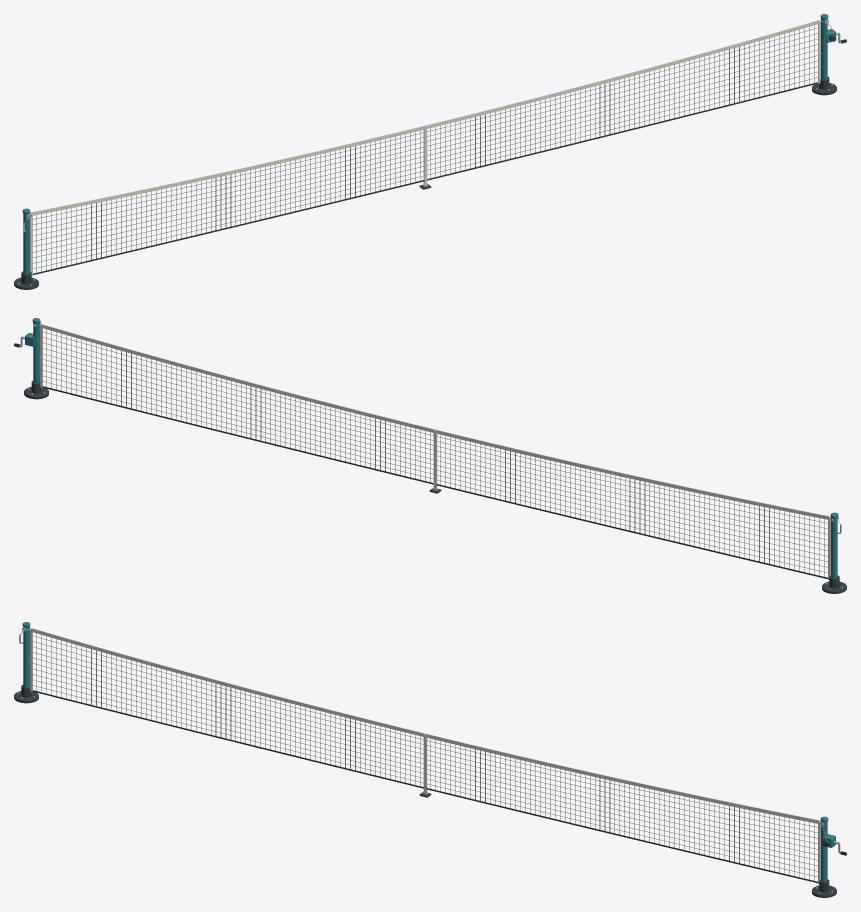
File: city-tennis-net-set.glb
3 renders of one model, top to bottom at view 1: azimuth 30°, elevation 25°; view 2: azimuth 150°, elevation 25°; view 3: azimuth 330°, elevation 25°, orthographic.
Parts seen in each view (by area): view 1: Assembly | Dark olive net cord, Assembly | Warm ivory woven tape appearance, Assembly | Muted petrol powder coating, Assembly | Dark graphite coated frame; view 2: Assembly | Dark olive net cord, Assembly | Warm ivory woven tape appearance, Assembly | Muted petrol powder coating, Assembly | Dark graphite coated frame; view 3: Assembly | Dark olive net cord, Assembly | Warm ivory woven tape appearance, Assembly | Muted petrol powder coating, Assembly | Dark graphite coated frame.
Boxes of the visible parts, x1=… form: Assembly | Dark olive net cord: x1=33, y1=25, x2=818, y2=274; Assembly | Warm ivory woven tape appearance: x1=30, y1=20, x2=820, y2=275; Assembly | Muted petrol powder coating: x1=22, y1=14, x2=835, y2=273; Assembly | Dark graphite coated frame: x1=14, y1=34, x2=836, y2=289; Assembly | Dark olive net cord: x1=42, y1=329, x2=827, y2=578; Assembly | Warm ivory woven tape appearance: x1=40, y1=324, x2=830, y2=579; Assembly | Muted petrol powder coating: x1=25, y1=318, x2=838, y2=577; Assembly | Dark graphite coated frame: x1=24, y1=381, x2=846, y2=593; Assembly | Dark olive net cord: x1=32, y1=633, x2=817, y2=883; Assembly | Warm ivory woven tape appearance: x1=30, y1=628, x2=820, y2=883; Assembly | Muted petrol powder coating: x1=22, y1=622, x2=835, y2=881; Assembly | Dark graphite coated frame: x1=14, y1=685, x2=836, y2=897.
Size of the model in its own units: 13.39 by 1.15 by 0.35.
